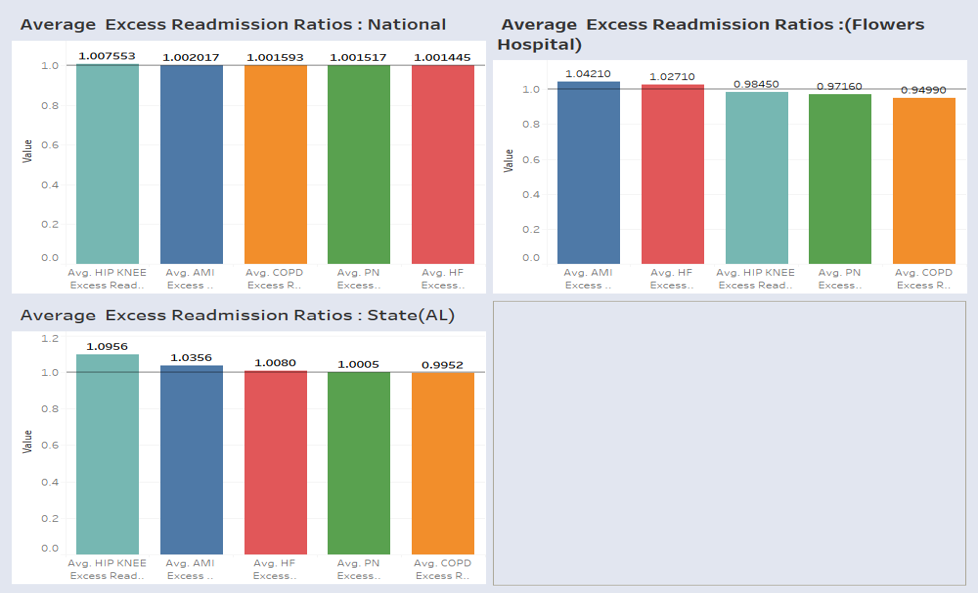

The page's visual inventory and layout, read from the dashboard file:
{"tool":"tableau","page":{"name":"dashboard","canvas":[1000,800],"ordinal":0},"visuals":[{"type":"worksheet","title":"National1","mark":"Automatic","box":[8,8,492,392]},{"type":"worksheet","title":"hospital ","mark":"Automatic","box":[500,8,492,392]},{"type":"worksheet","title":"state ","mark":"Automatic","box":[8,400,492,392]},{"type":"web page","param":"https://www.flowershospital.com/hospital-about-us","box":[500,400,492,392]}]}

Visuals, with their boxes on the page's 1000x800 design canvas (x1, y1, x2, y2). These are canvas units, not pixel positions in the 978x593 screenshot, which may show the page scaled, cropped or inside an application window:
"National1" worksheet: (x1=8, y1=8, x2=500, y2=400)
"hospital " worksheet: (x1=500, y1=8, x2=992, y2=400)
"state " worksheet: (x1=8, y1=400, x2=500, y2=792)
web page: (x1=500, y1=400, x2=992, y2=792)
